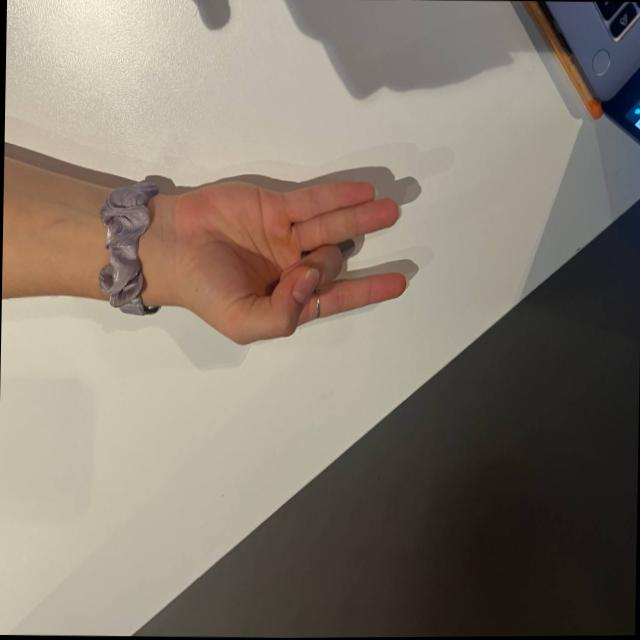r: (168, 145, 420, 341)
